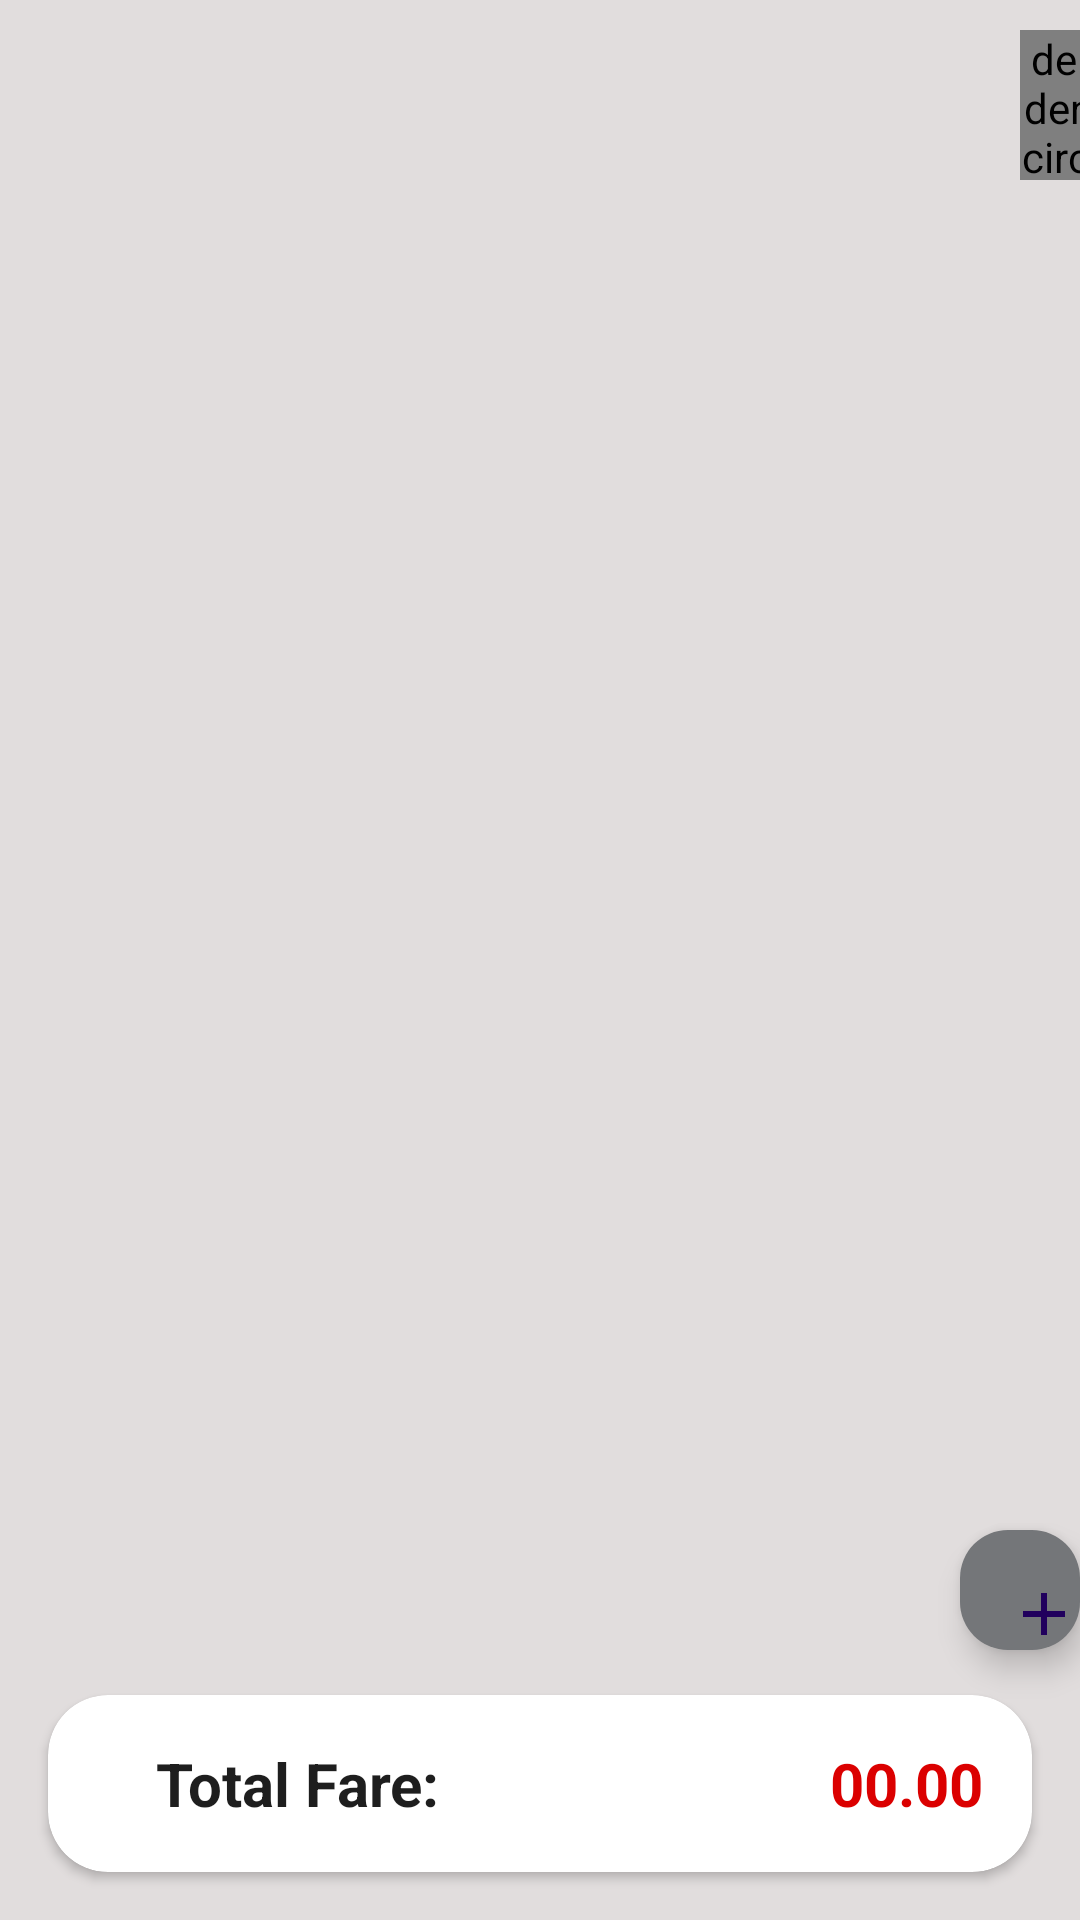

Icon click points for this 1080x1920 phone screenshot, format (x=x, y=y):
add: (x=1020, y=1590)
